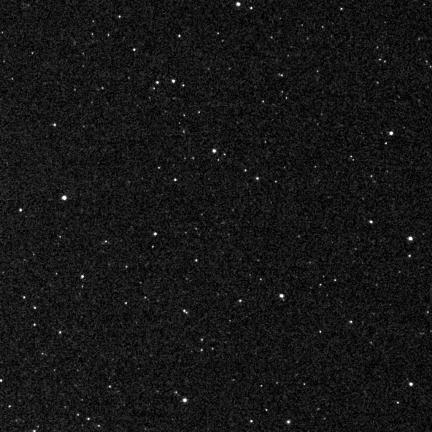blob: (62, 196, 68, 201), (183, 398, 188, 403), (408, 237, 413, 241), (236, 3, 240, 7), (389, 132, 393, 135), (410, 382, 413, 386), (154, 232, 157, 236), (213, 149, 216, 153), (370, 221, 373, 225)
